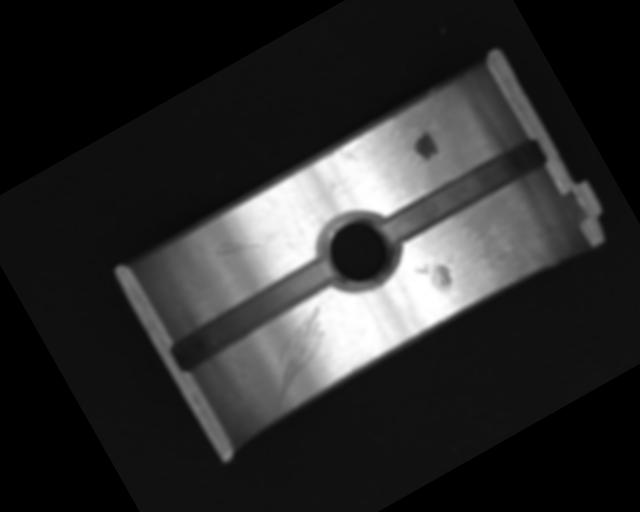blot: (409, 129, 441, 164)
bruise: (414, 253, 457, 298)
gap: (163, 252, 343, 376), (377, 134, 547, 249)
hole: (306, 197, 414, 305)
nick: (245, 304, 353, 407), (212, 219, 276, 272)
